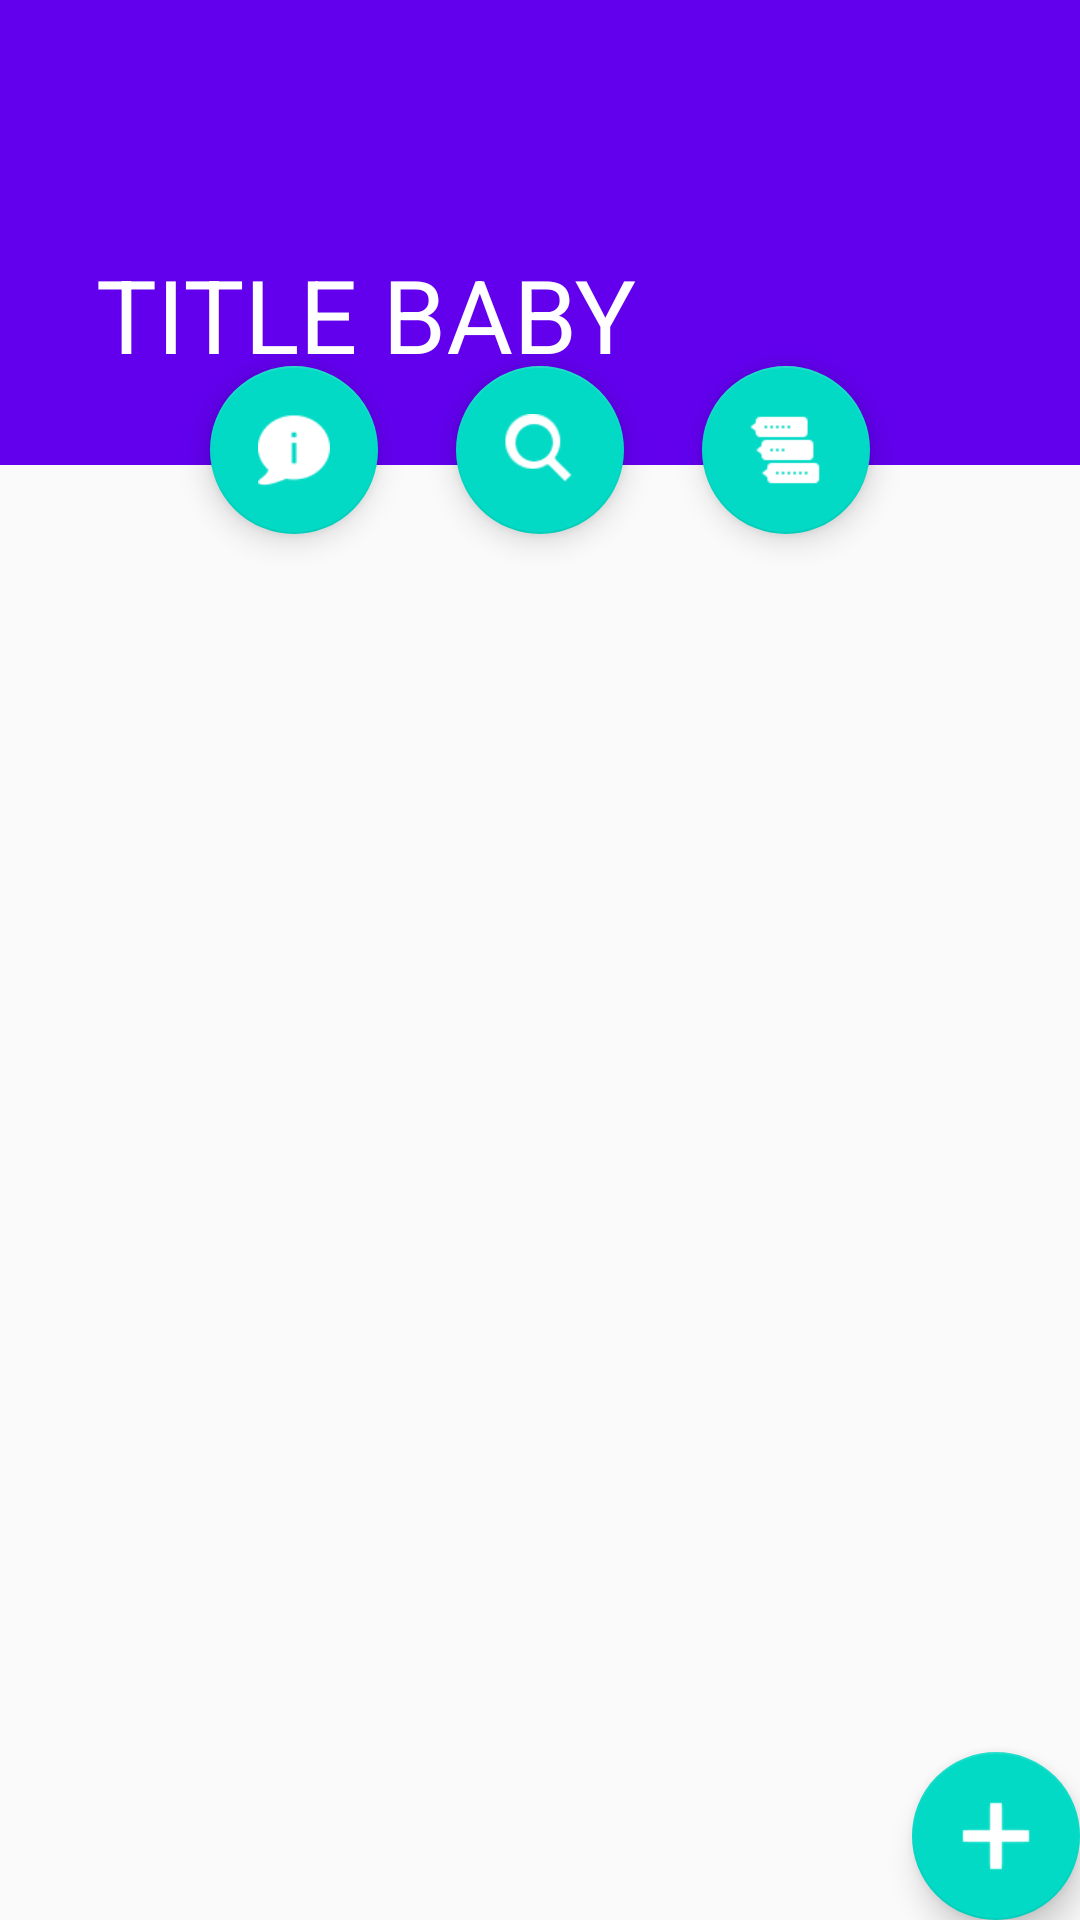

Where to tap for icons on this 1080 × 1920 app screen, as point (x, y):
about: point (294, 450)
forums: point (786, 450)
plus: point (996, 1836)
search: point (540, 450)
